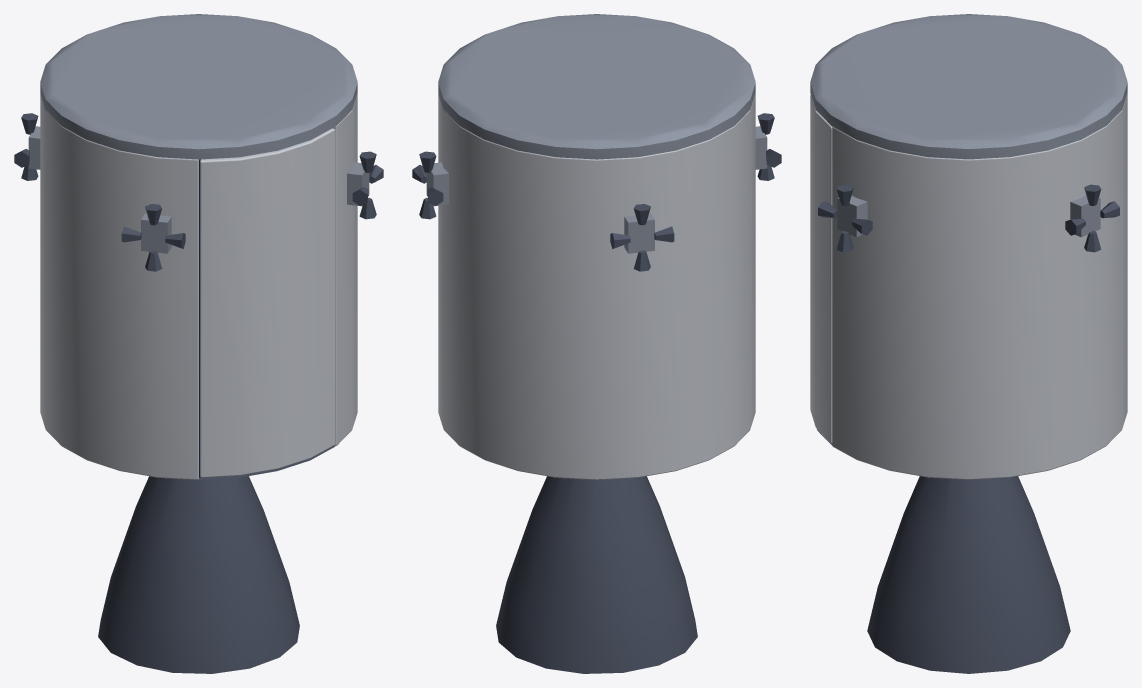
File: Ship_SM.glb
3 renders of one model, left to right at view 1: azimuth 30°, elevation 25°; view 2: azimuth 150°, elevation 25°; view 3: azimuth 270°, elevation 25°, orthographic.
Parts seen in each view (by area): view 1: Ship_SM.Skin, Ship_SM.Move_Panel4, Ship_SM.TopRing, Ship_SM.Nozzle, Ship_SM.Rcs3, Ship_SM.Rcs4, Ship_SM.Rcs2; view 2: Ship_SM.Skin, Ship_SM.TopRing, Ship_SM.Nozzle, Ship_SM.Rcs2, Ship_SM.Rcs1, Ship_SM.Rcs3; view 3: Ship_SM.Skin, Ship_SM.TopRing, Ship_SM.Nozzle, Ship_SM.Move_Panel4, Ship_SM.Rcs1, Ship_SM.Rcs4.
Part boxes in pixels (x1,y1,x2,y2): Ship_SM.Skin: [40, 94, 357, 479]; Ship_SM.Move_Panel4: [200, 128, 335, 477]; Ship_SM.TopRing: [40, 14, 357, 159]; Ship_SM.Nozzle: [98, 476, 299, 673]; Ship_SM.Rcs3: [121, 204, 185, 271]; Ship_SM.Rcs4: [347, 151, 383, 219]; Ship_SM.Rcs2: [14, 113, 40, 180]; Ship_SM.Skin: [438, 94, 755, 479]; Ship_SM.TopRing: [438, 14, 755, 159]; Ship_SM.Nozzle: [496, 476, 697, 673]; Ship_SM.Rcs2: [610, 204, 674, 271]; Ship_SM.Rcs1: [412, 151, 448, 219]; Ship_SM.Rcs3: [755, 113, 781, 180]; Ship_SM.Skin: [832, 93, 1127, 479]; Ship_SM.TopRing: [810, 14, 1127, 159]; Ship_SM.Nozzle: [867, 476, 1070, 673]; Ship_SM.Move_Panel4: [810, 94, 832, 443]; Ship_SM.Rcs1: [1065, 184, 1119, 252]; Ship_SM.Rcs4: [818, 184, 872, 252].
Bounding box in the file's own units: 3.9 × 7.5 × 3.9.
1 material, 1 textured.
